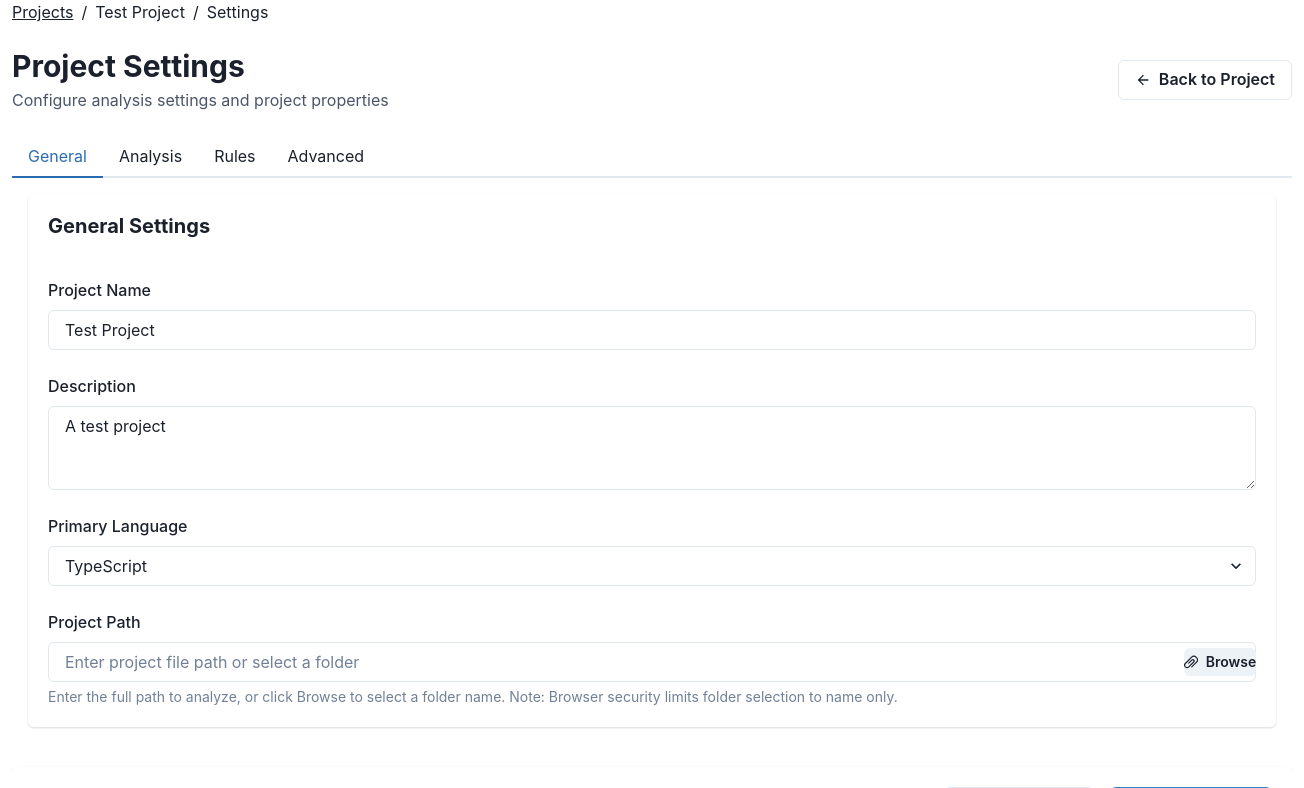
Test: Project Flow Integration Tests › ProjectSettings › allows resetting settings
Replace the text in the field showing "Test Project" with "Modified Name" at (652, 330), box [48,310,1256,350]
(page scrolled)
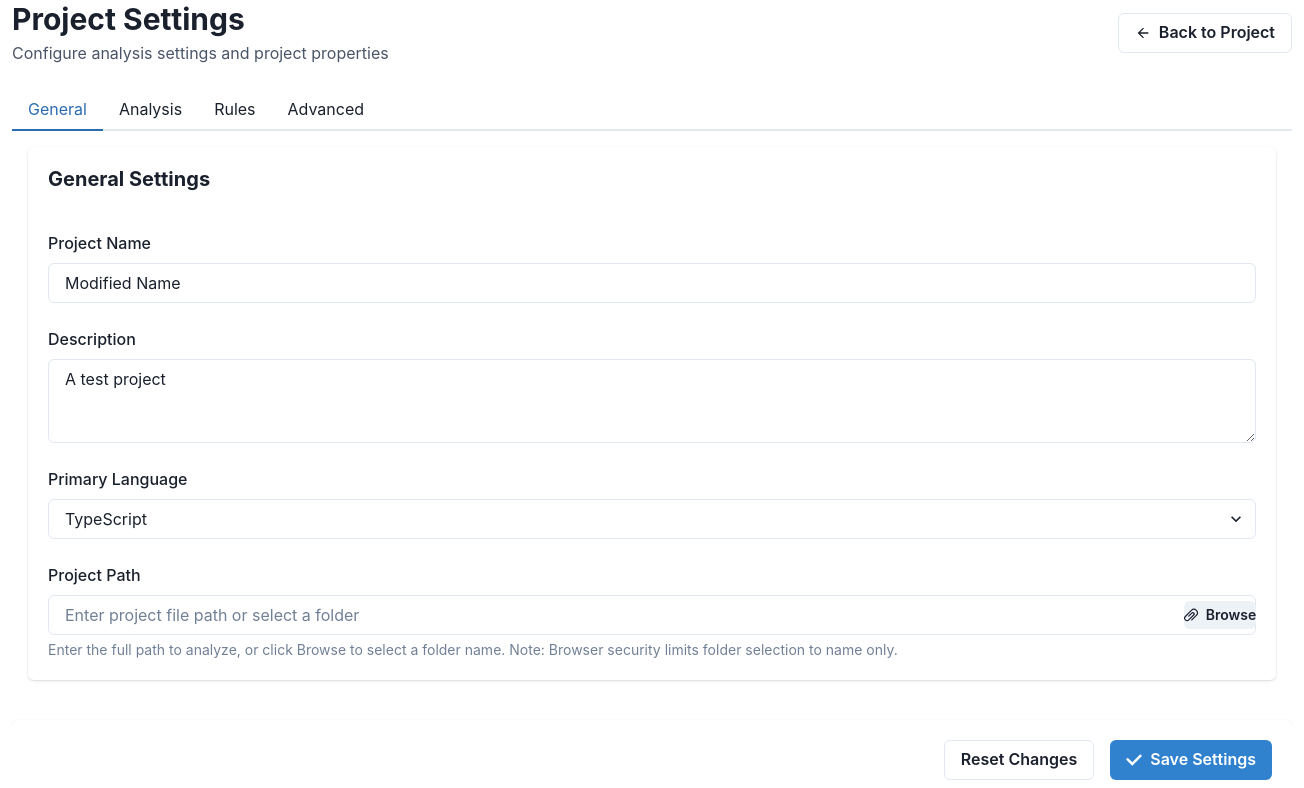
Click the button "Reset Changes" at (1019, 760), box [944,740,1094,780]
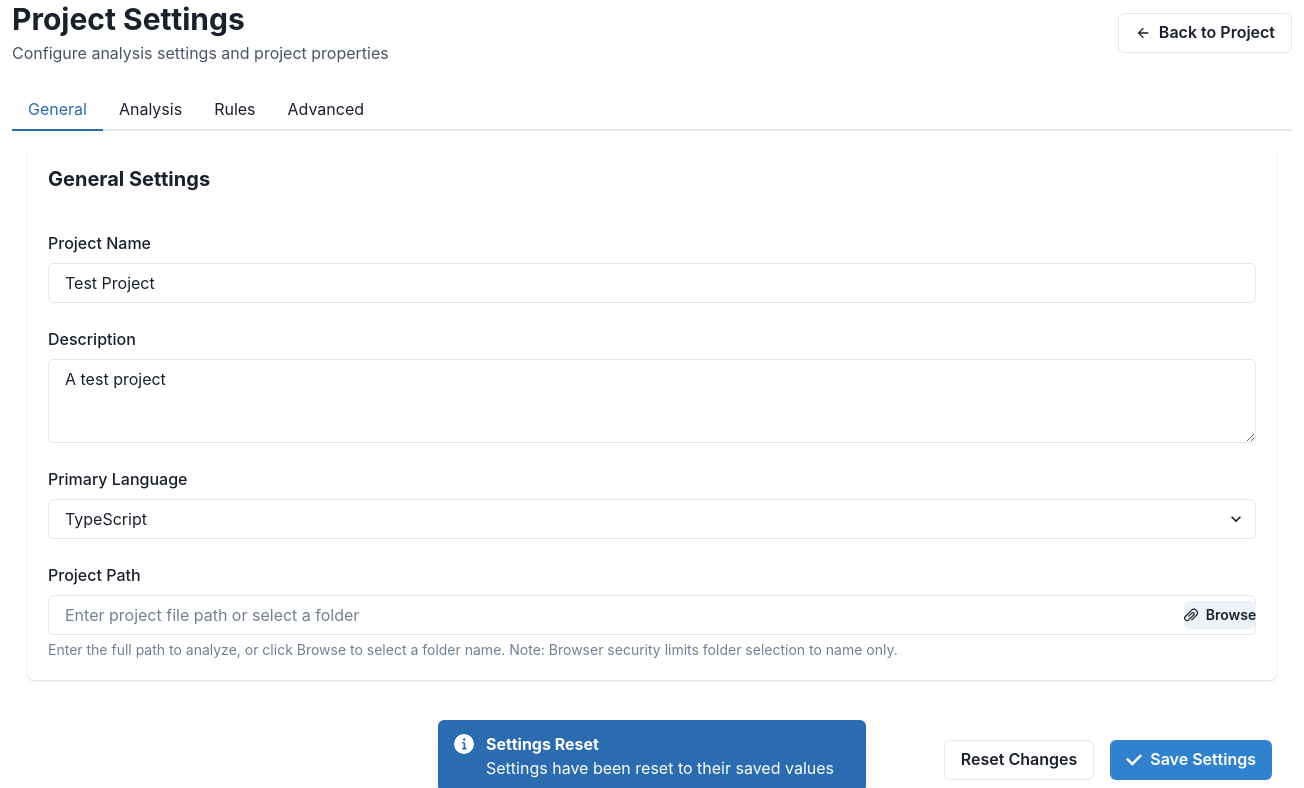
Check: the field showing "Test Project" holds "Test Project", box [48,263,1256,303]
